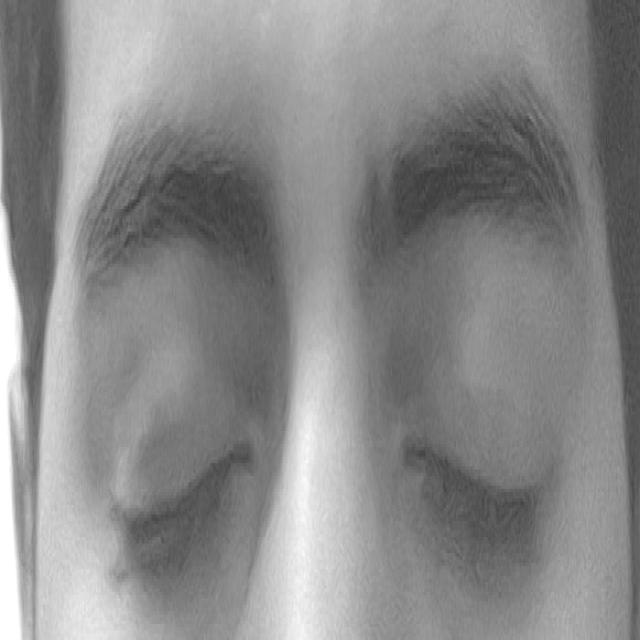real: (68, 234, 598, 610)
